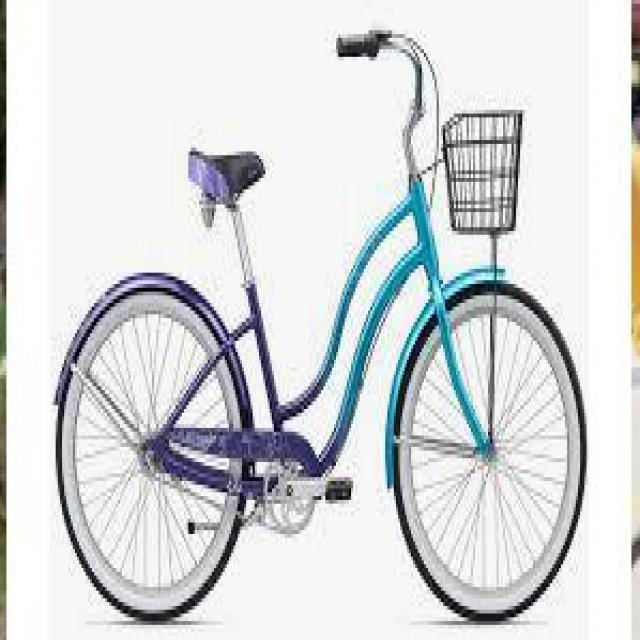bicycle: (61, 20, 585, 630)
